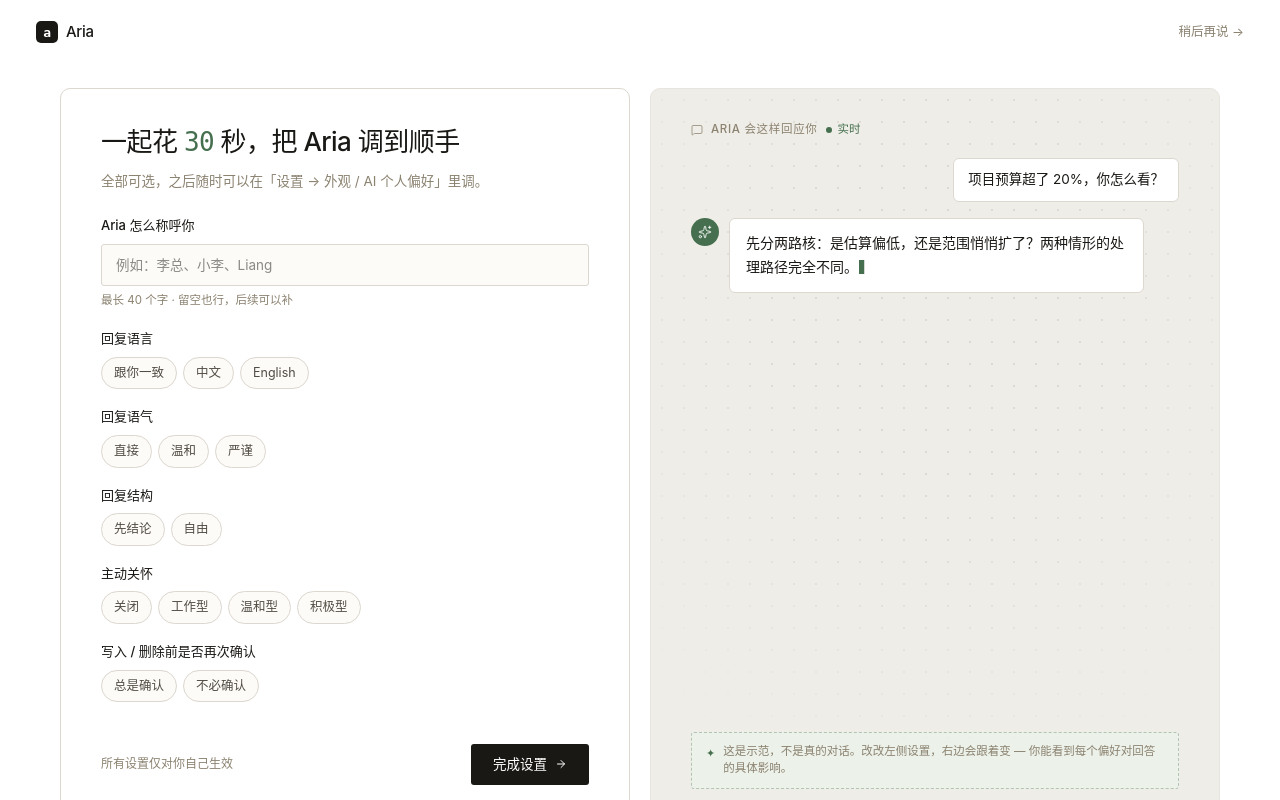
Test: PreferenceOnboarding rendered behaviour › renders a setting → effect chip row once a tone is picked
This screenshot has width=1280, height=800.
Expected: the text "省去客套寒暄" is not shown
Step 1. Click the radio button labelled "直接" → (126, 451), box [101,435,152,468]
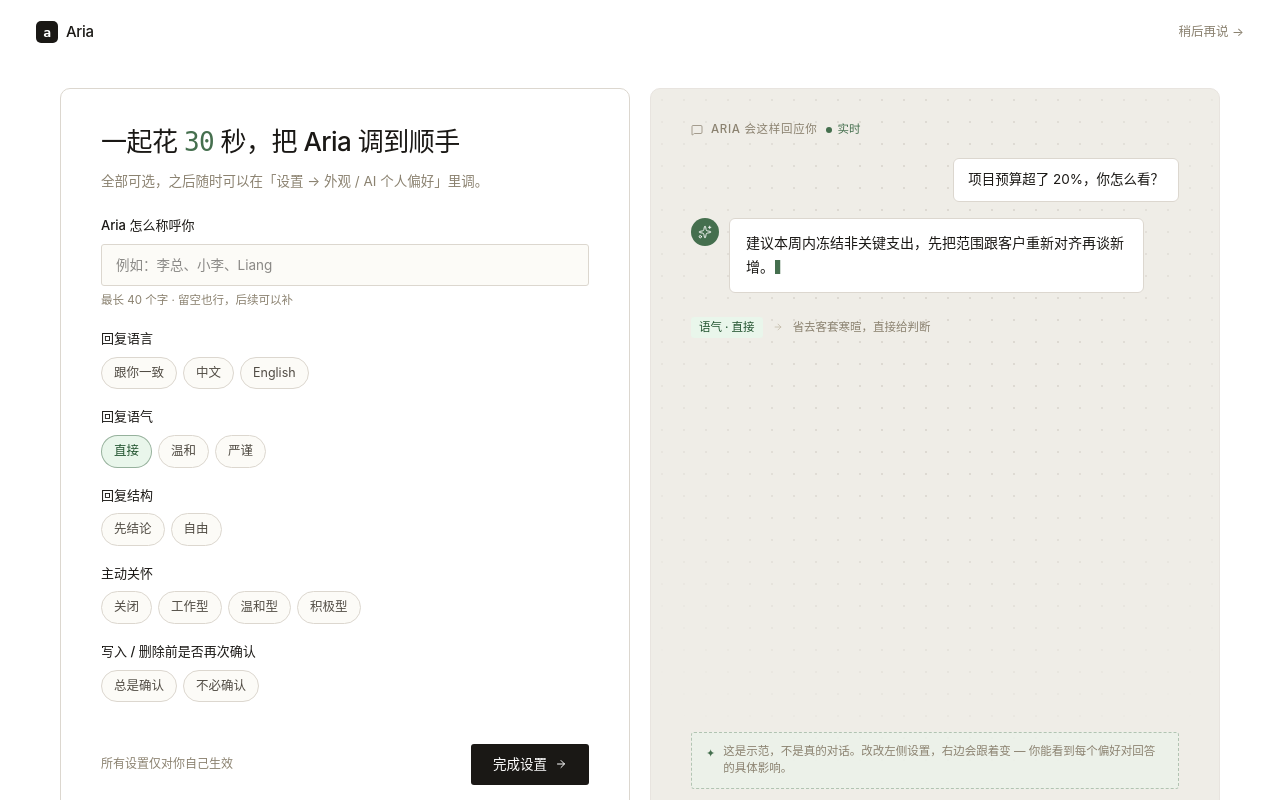
Result: the text "语气 · 直接" is shown at [691,317,763,338]
Result: the text "省去客套寒暄，直接给判断" is shown at [793,319,931,336]
